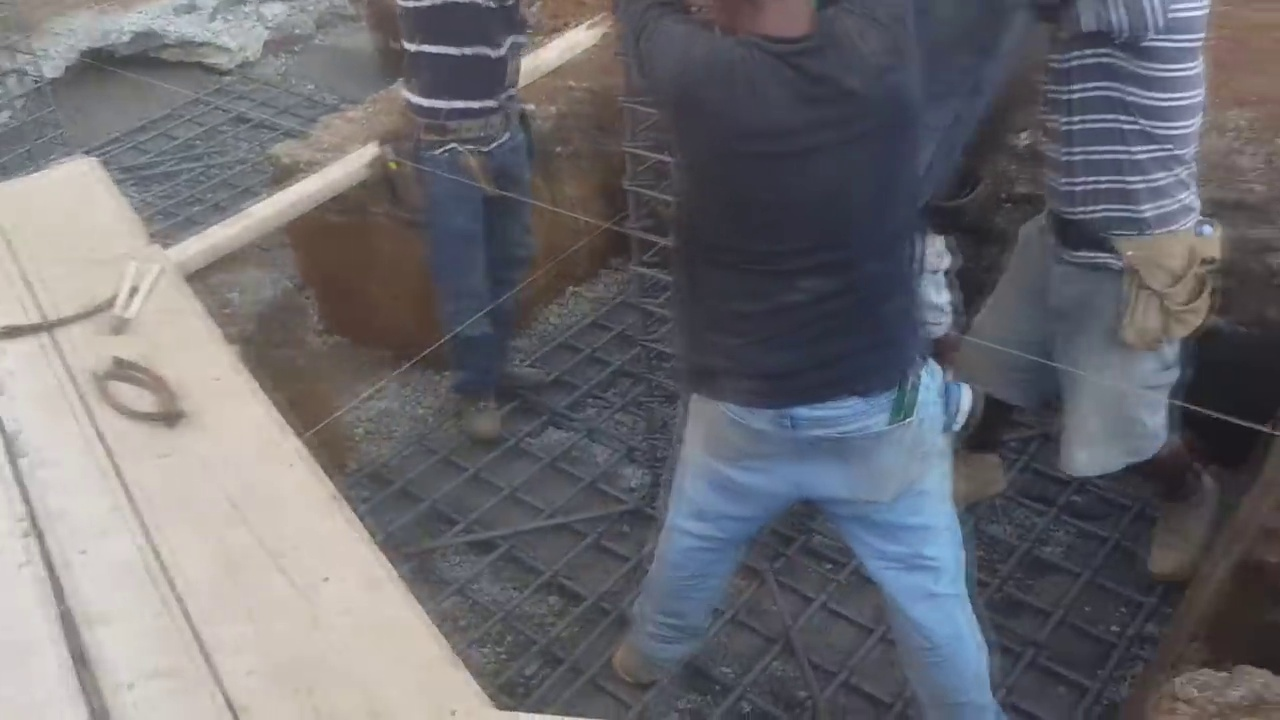person: (612, 0, 1006, 716), (956, 3, 1223, 571), (352, 0, 552, 413)
